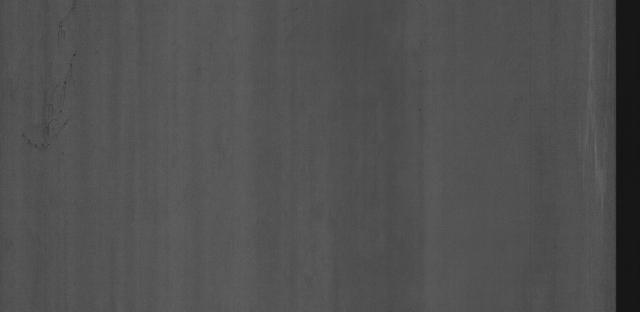water_spot: (18, 50, 82, 155)
